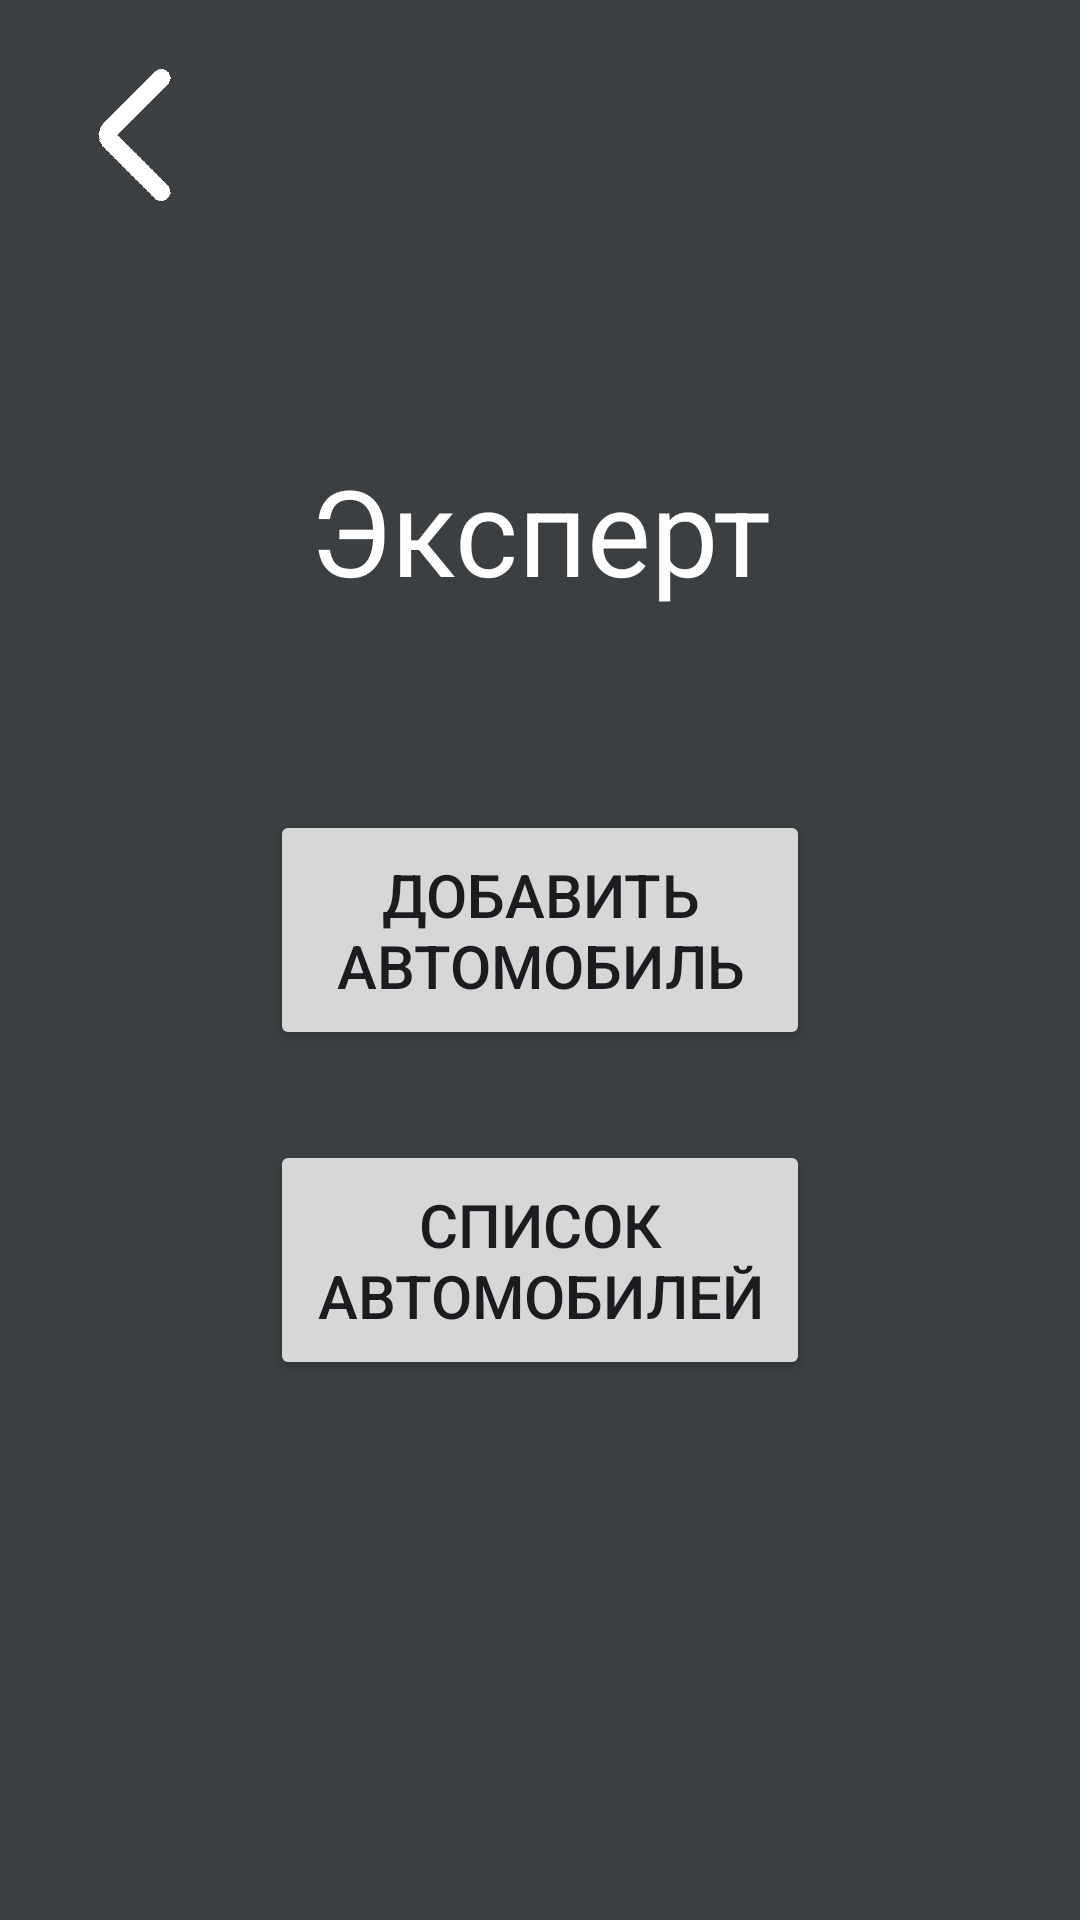

Named icons in this screenshot (1080 × 1920) and their bounding boxes, bbox=[x1, y1, x2, y2]:
arrow: bbox=[98, 69, 171, 201]
